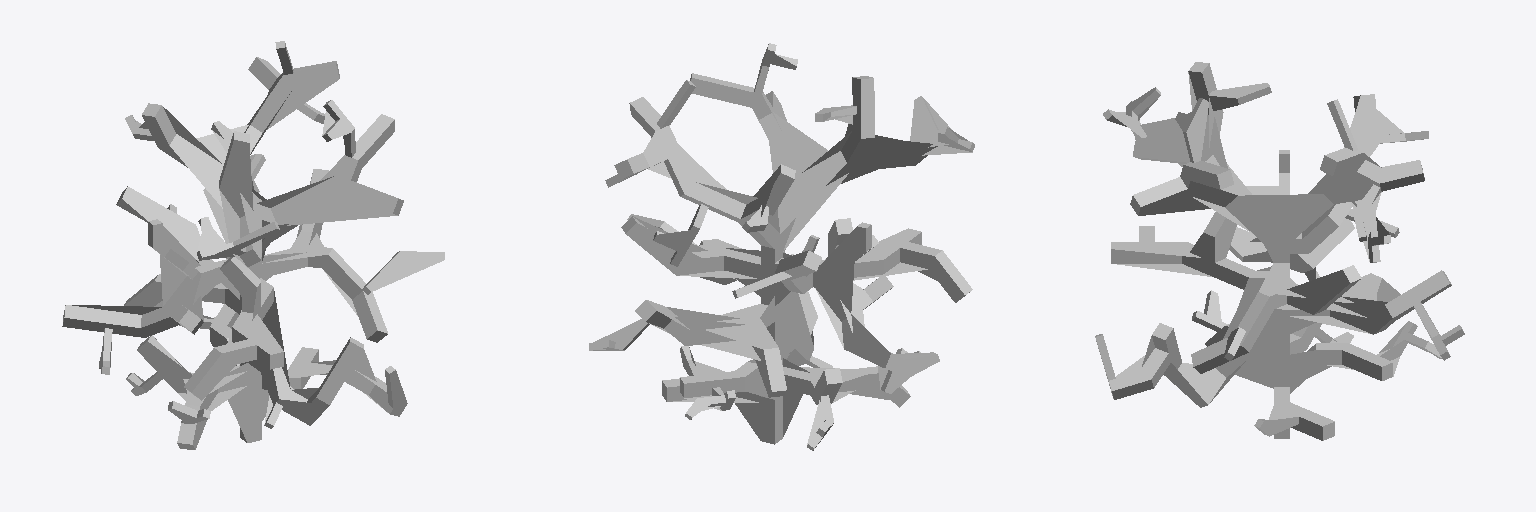
Rendered from tree_g.obj.
3 renders of one model, left to right at view 1: azimuth 30°, elevation 25°; view 2: azimuth 150°, elevation 25°; view 3: azimuth 270°, elevation 25°, orthographic.
Visible parts, largest first — view 1: Mesh5 Group1 Model, Mesh1 Group2 Group1 Model; view 2: Mesh5 Group1 Model, Mesh4 Group5 Group1 Model, Mesh3 Group4 Group1 Model, Mesh2 Group3 Group1 Model; view 3: Mesh5 Group1 Model, Mesh3 Group4 Group1 Model, Mesh1 Group2 Group1 Model.
Part boxes in pixels (bbox=[...]): Mesh5 Group1 Model: bbox=[62, 41, 444, 449]; Mesh1 Group2 Group1 Model: bbox=[168, 401, 210, 423]; Mesh5 Group1 Model: bbox=[589, 43, 974, 444]; Mesh4 Group5 Group1 Model: bbox=[878, 352, 939, 393]; Mesh3 Group4 Group1 Model: bbox=[653, 204, 708, 266]; Mesh2 Group3 Group1 Model: bbox=[807, 395, 833, 450]; Mesh5 Group1 Model: bbox=[1095, 62, 1464, 440]; Mesh3 Group4 Group1 Model: bbox=[1351, 200, 1390, 262]; Mesh1 Group2 Group1 Model: bbox=[1192, 290, 1227, 331].
Size of the model in its own units: 3524 by 3749 by 3454.